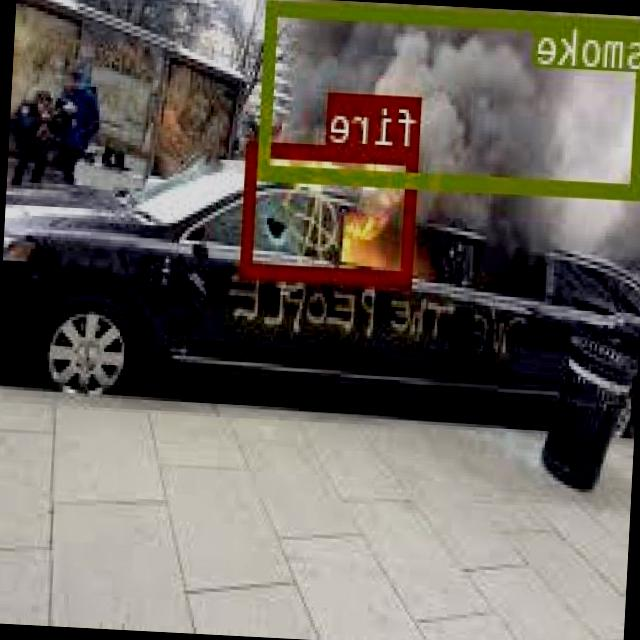fire: (244, 138, 421, 285)
smoke: (261, 0, 640, 195)
